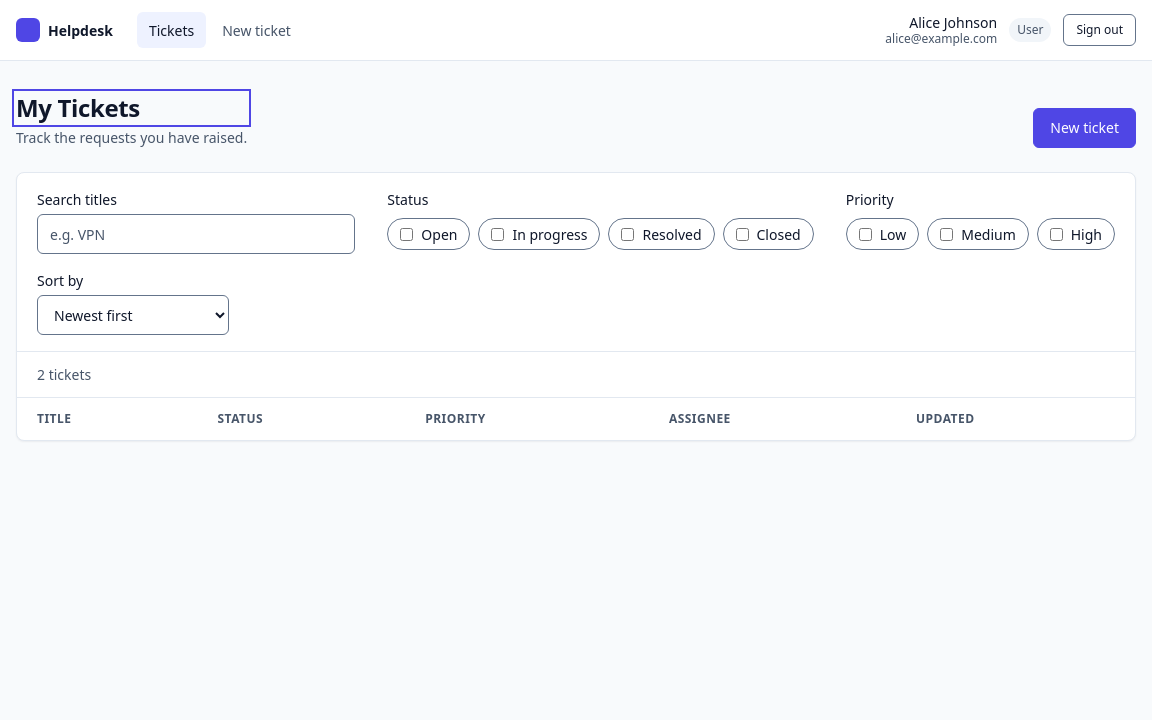
it: TicketListPage › syncs filters to the URL and the API query, resetting the page
This screenshot has width=1152, height=720.
Expected: the text "2 tickets" is shown, x1=37 y1=364 x2=91 y2=385
Click the checkbox labelled "In progress".
click(498, 234)  # box x1=491 y1=228 x2=504 y2=240
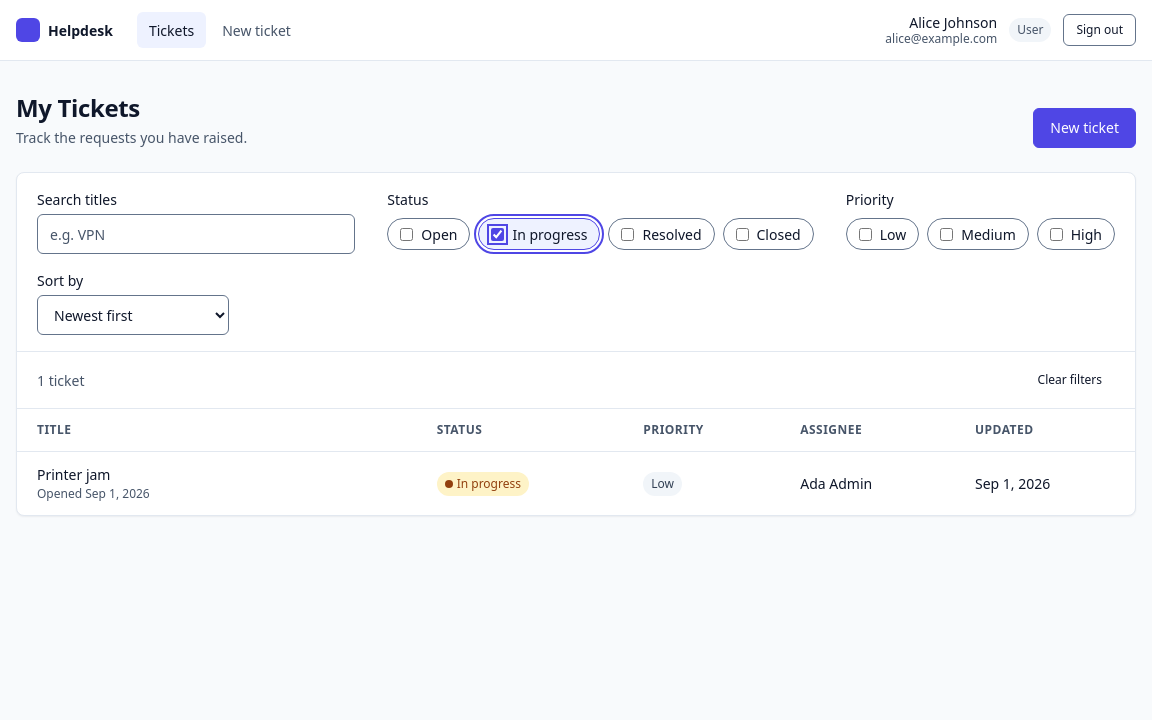
Result: the link "Printer jam" is shown at x1=37 y1=465 x2=110 y2=484
